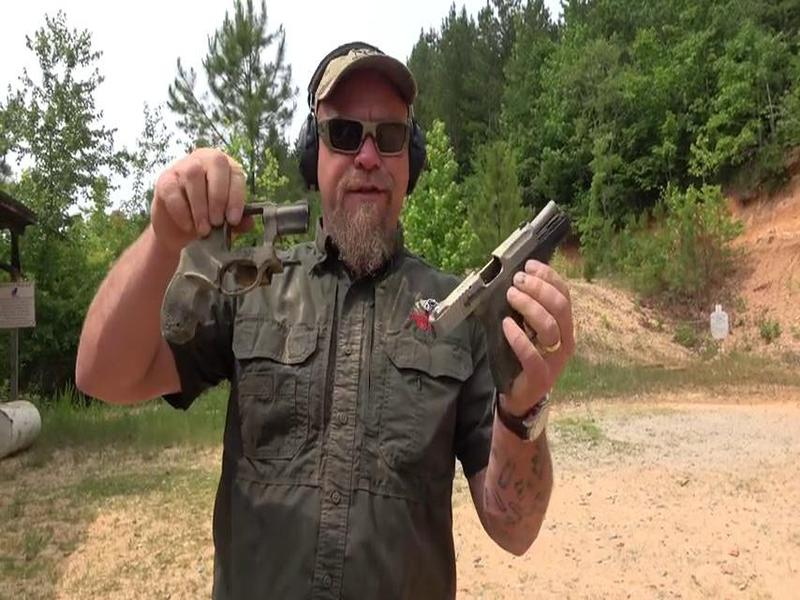Pistola: (414, 173, 590, 408)
